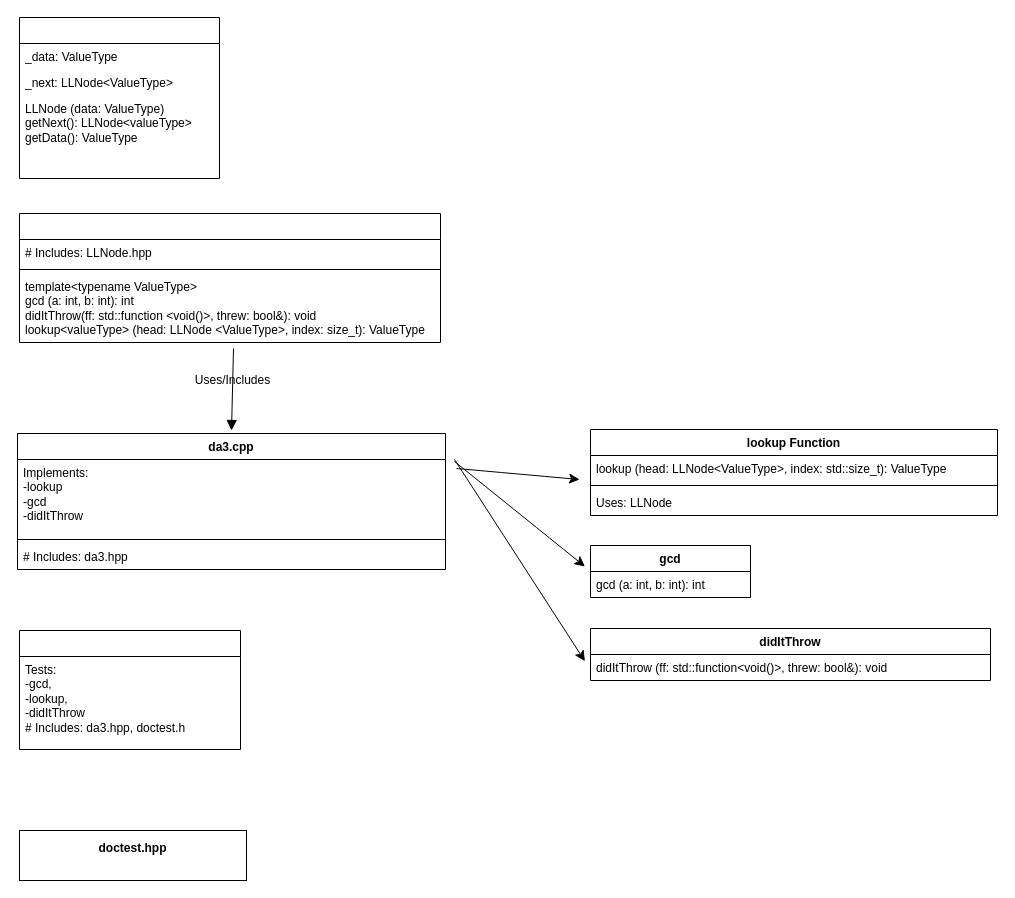
Image size: 1015x898. Some labels were removed from this diagram. The box of each missing label's shape, as (x1, y1, x2, y2) in pixels:
da3.hpp: (18, 212, 440, 342)
da3_test.cpp: (18, 630, 240, 750)
LLNode.hpp: (18, 16, 220, 178)
